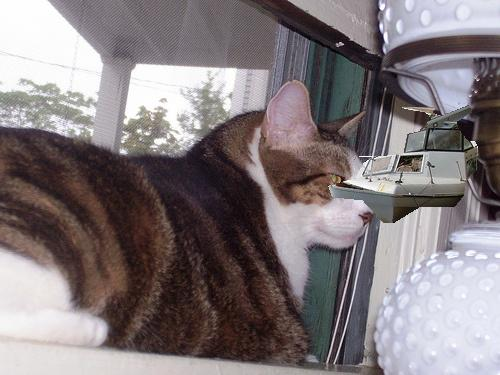tampered: (329, 106, 478, 223)
